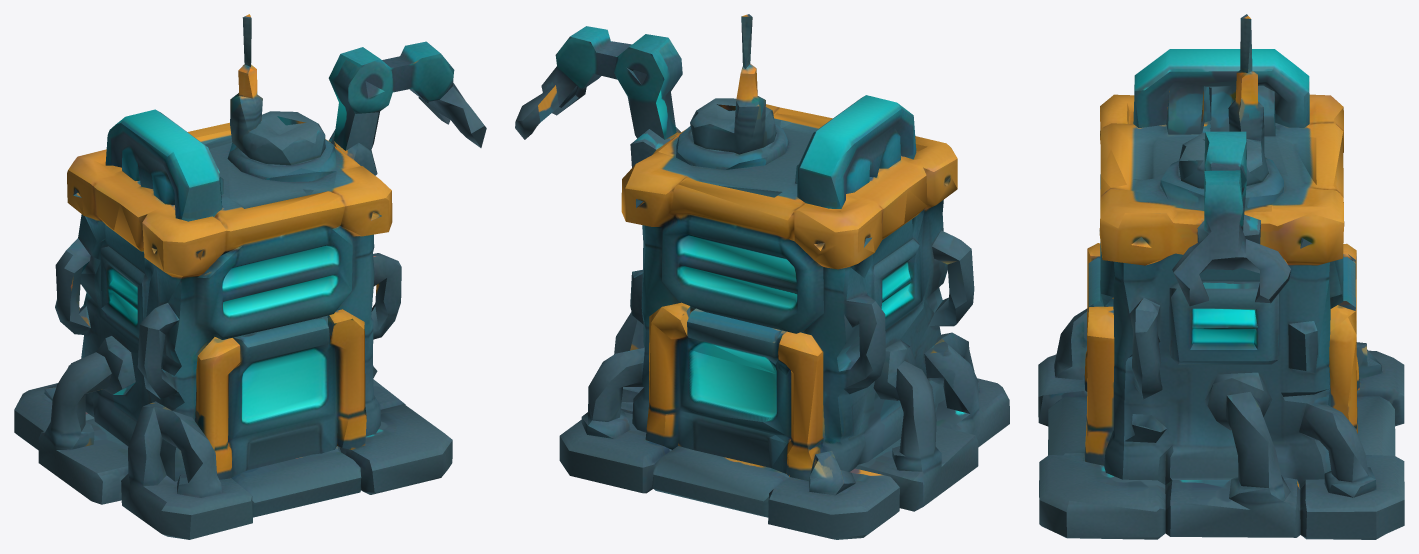
The model's file is Environment 3.3.fbx.
3 views of the same model, side by side, from view 1: azimuth 30°, elevation 25°; view 2: azimuth 150°, elevation 25°; view 3: azimuth 270°, elevation 25° (orthographic). The views are drawn at different scales.
Parts seen in each view (by area): view 1: tmpa6pk0ulg.ply; view 2: tmpa6pk0ulg.ply; view 3: tmpa6pk0ulg.ply.
Boxes of the visible parts, x1,y1,x2,y2 form: tmpa6pk0ulg.ply: (14,14,486,539); tmpa6pk0ulg.ply: (515,14,1009,539); tmpa6pk0ulg.ply: (1038,14,1404,539).
Size of the model in its own units: 199 by 198 by 143.
Materials: 1 (1 with a texture image).
